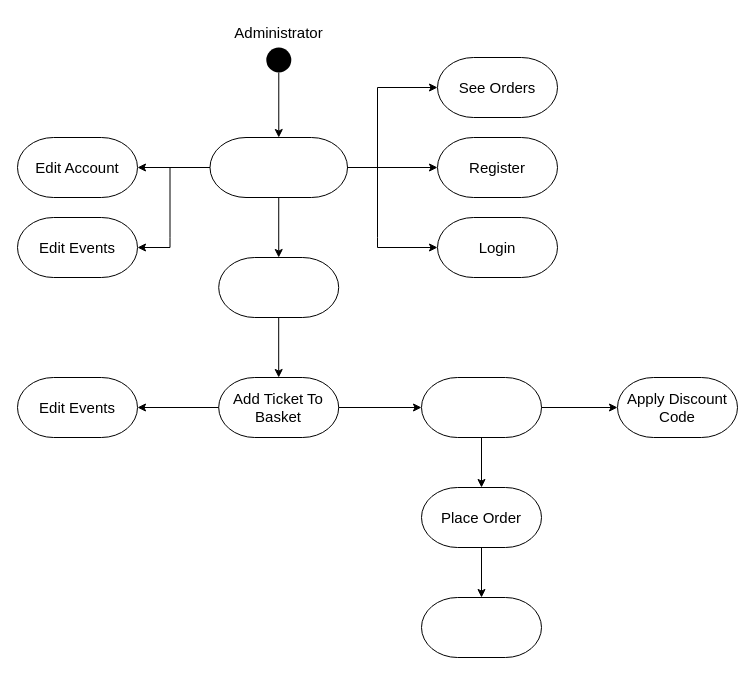
Image size: 755x675. Some labels were removed from this diagram. Here are the shapes that lost their labels. From the top down, the box of each, then its label:
(209, 136, 348, 198): Access Home Page (with event list)
(218, 256, 339, 318): Access Event Page
(420, 376, 542, 438): View Basket
(420, 596, 542, 658): View Receipt
